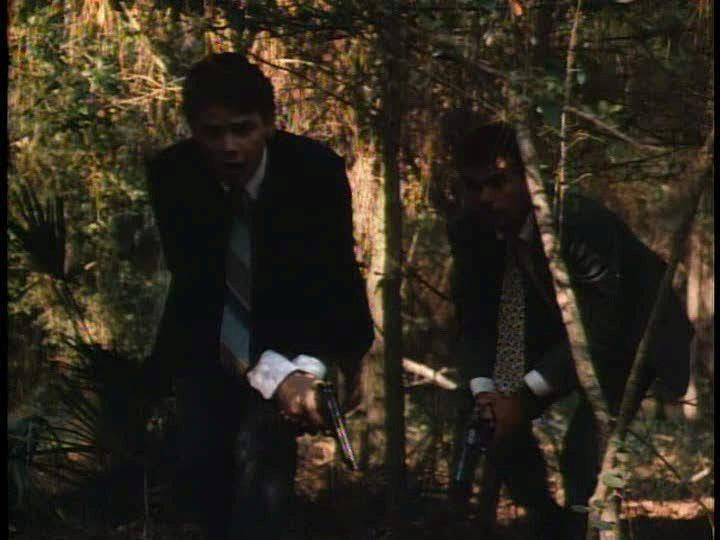gun: (282, 365, 397, 469), (445, 395, 509, 502)
